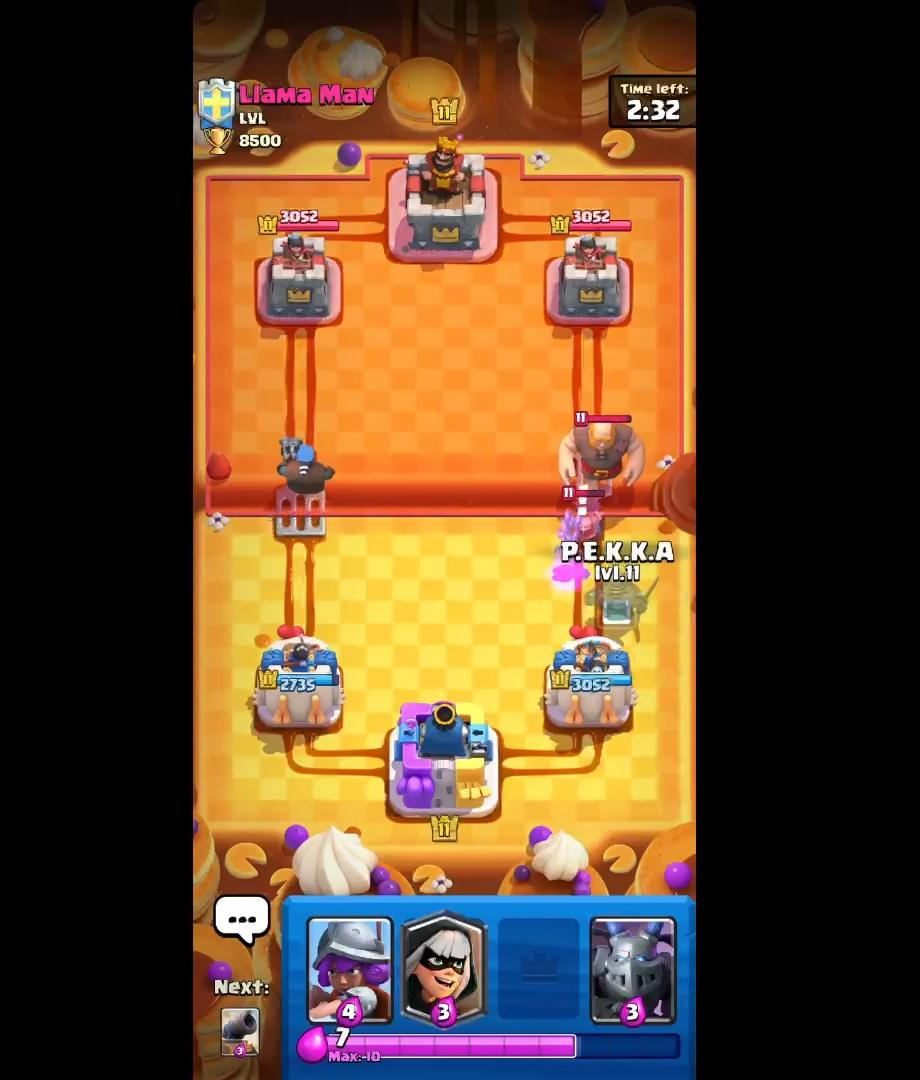Giant: (557, 403, 650, 503)
